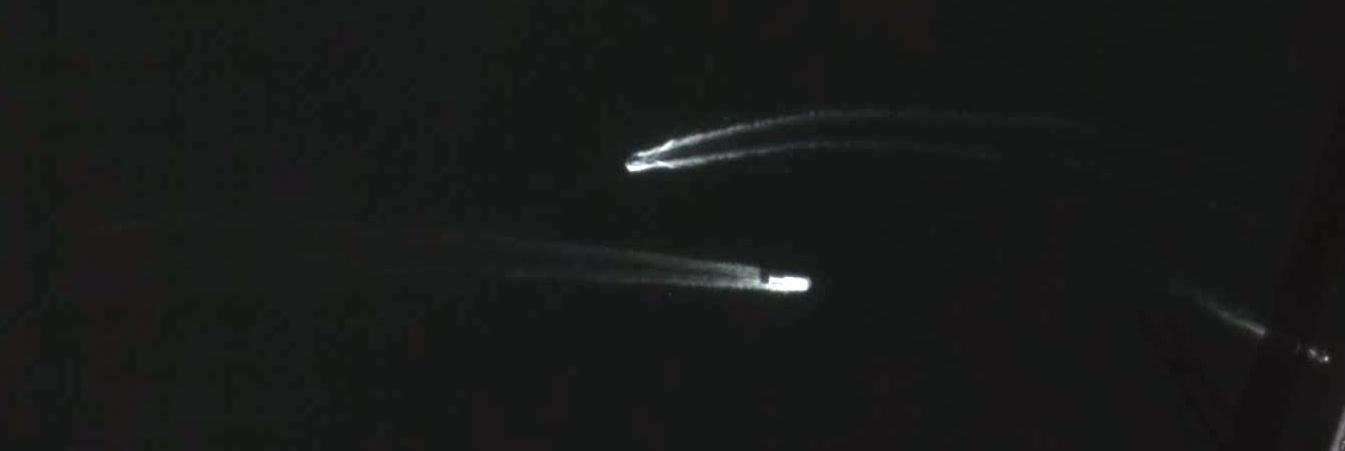person: (768, 275, 812, 293), (1303, 344, 1331, 364), (626, 155, 645, 165)
